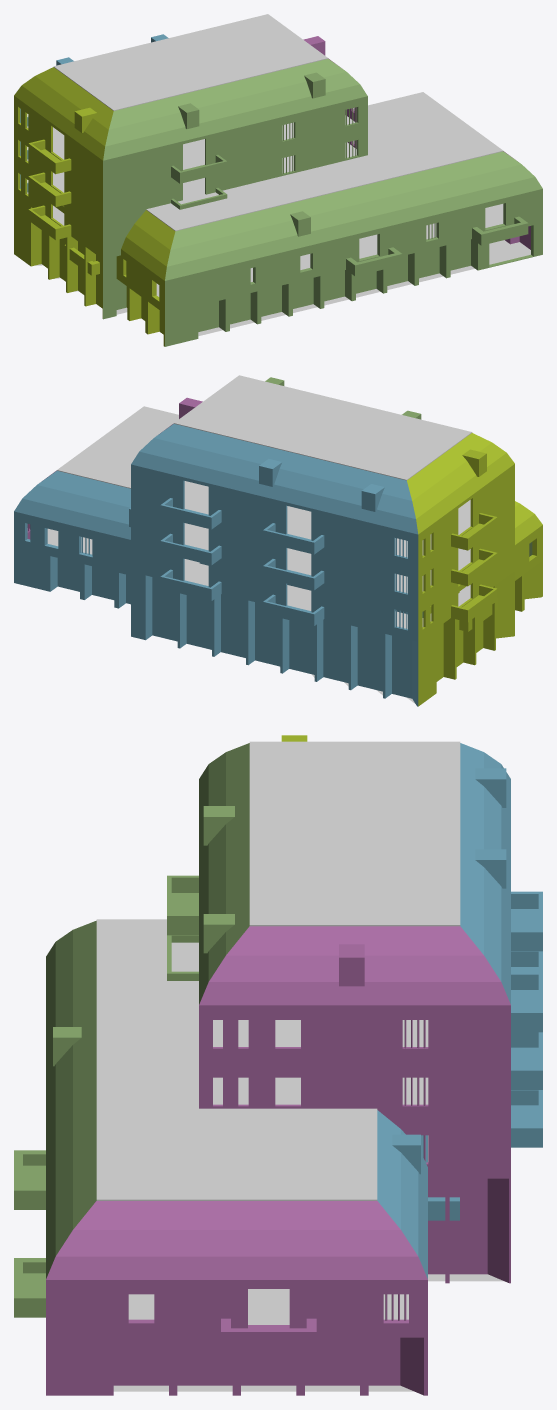
The model's file is cust2.fbx.
The picture shows the model from 3 angles, top to bottom: view 1: azimuth 30°, elevation 25°; view 2: azimuth 150°, elevation 25°; view 3: azimuth 270°, elevation 25°; orthographic projection. The views are drawn at different scales.
Visible parts, largest first — view 1: Building; view 2: Building; view 3: Building.
Part boxes in pixels (<box>): Building: <box>14,14,542,346</box>; Building: <box>14,375,542,706</box>; Building: <box>14,735,542,1395</box>.
Size of the model in its own units: 13.57 by 5.83 by 8.3.
